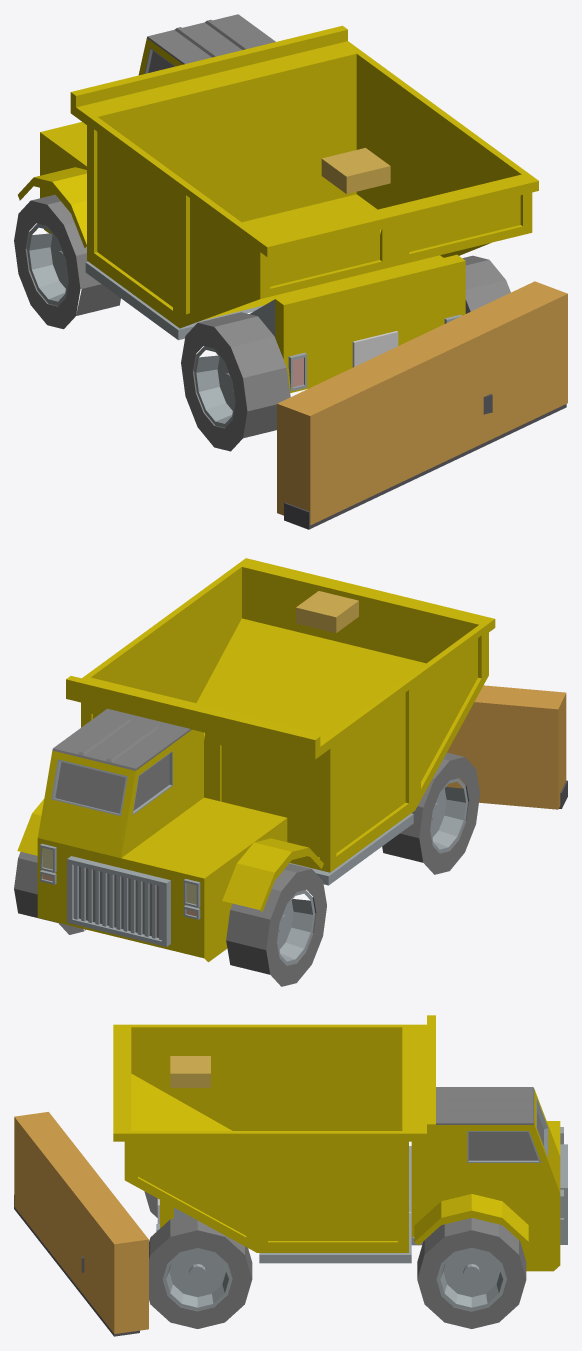
The model's file is plow.glb.
The picture shows the model from 3 angles, top to bottom: view 1: azimuth 30°, elevation 25°; view 2: azimuth 150°, elevation 25°; view 3: azimuth 270°, elevation 25°; orthographic projection. The views are drawn at different scales.
Visible parts, largest first — view 1: plow; view 2: plow; view 3: plow.
Boxes of the visible parts, left/top/right/bottom form: plow: left=14, top=14, right=567, bottom=529; plow: left=14, top=558, right=567, bottom=986; plow: left=14, top=1015, right=567, bottom=1336.
Bounding box in the file's own units: 7.23 × 5.32 × 12.77.
